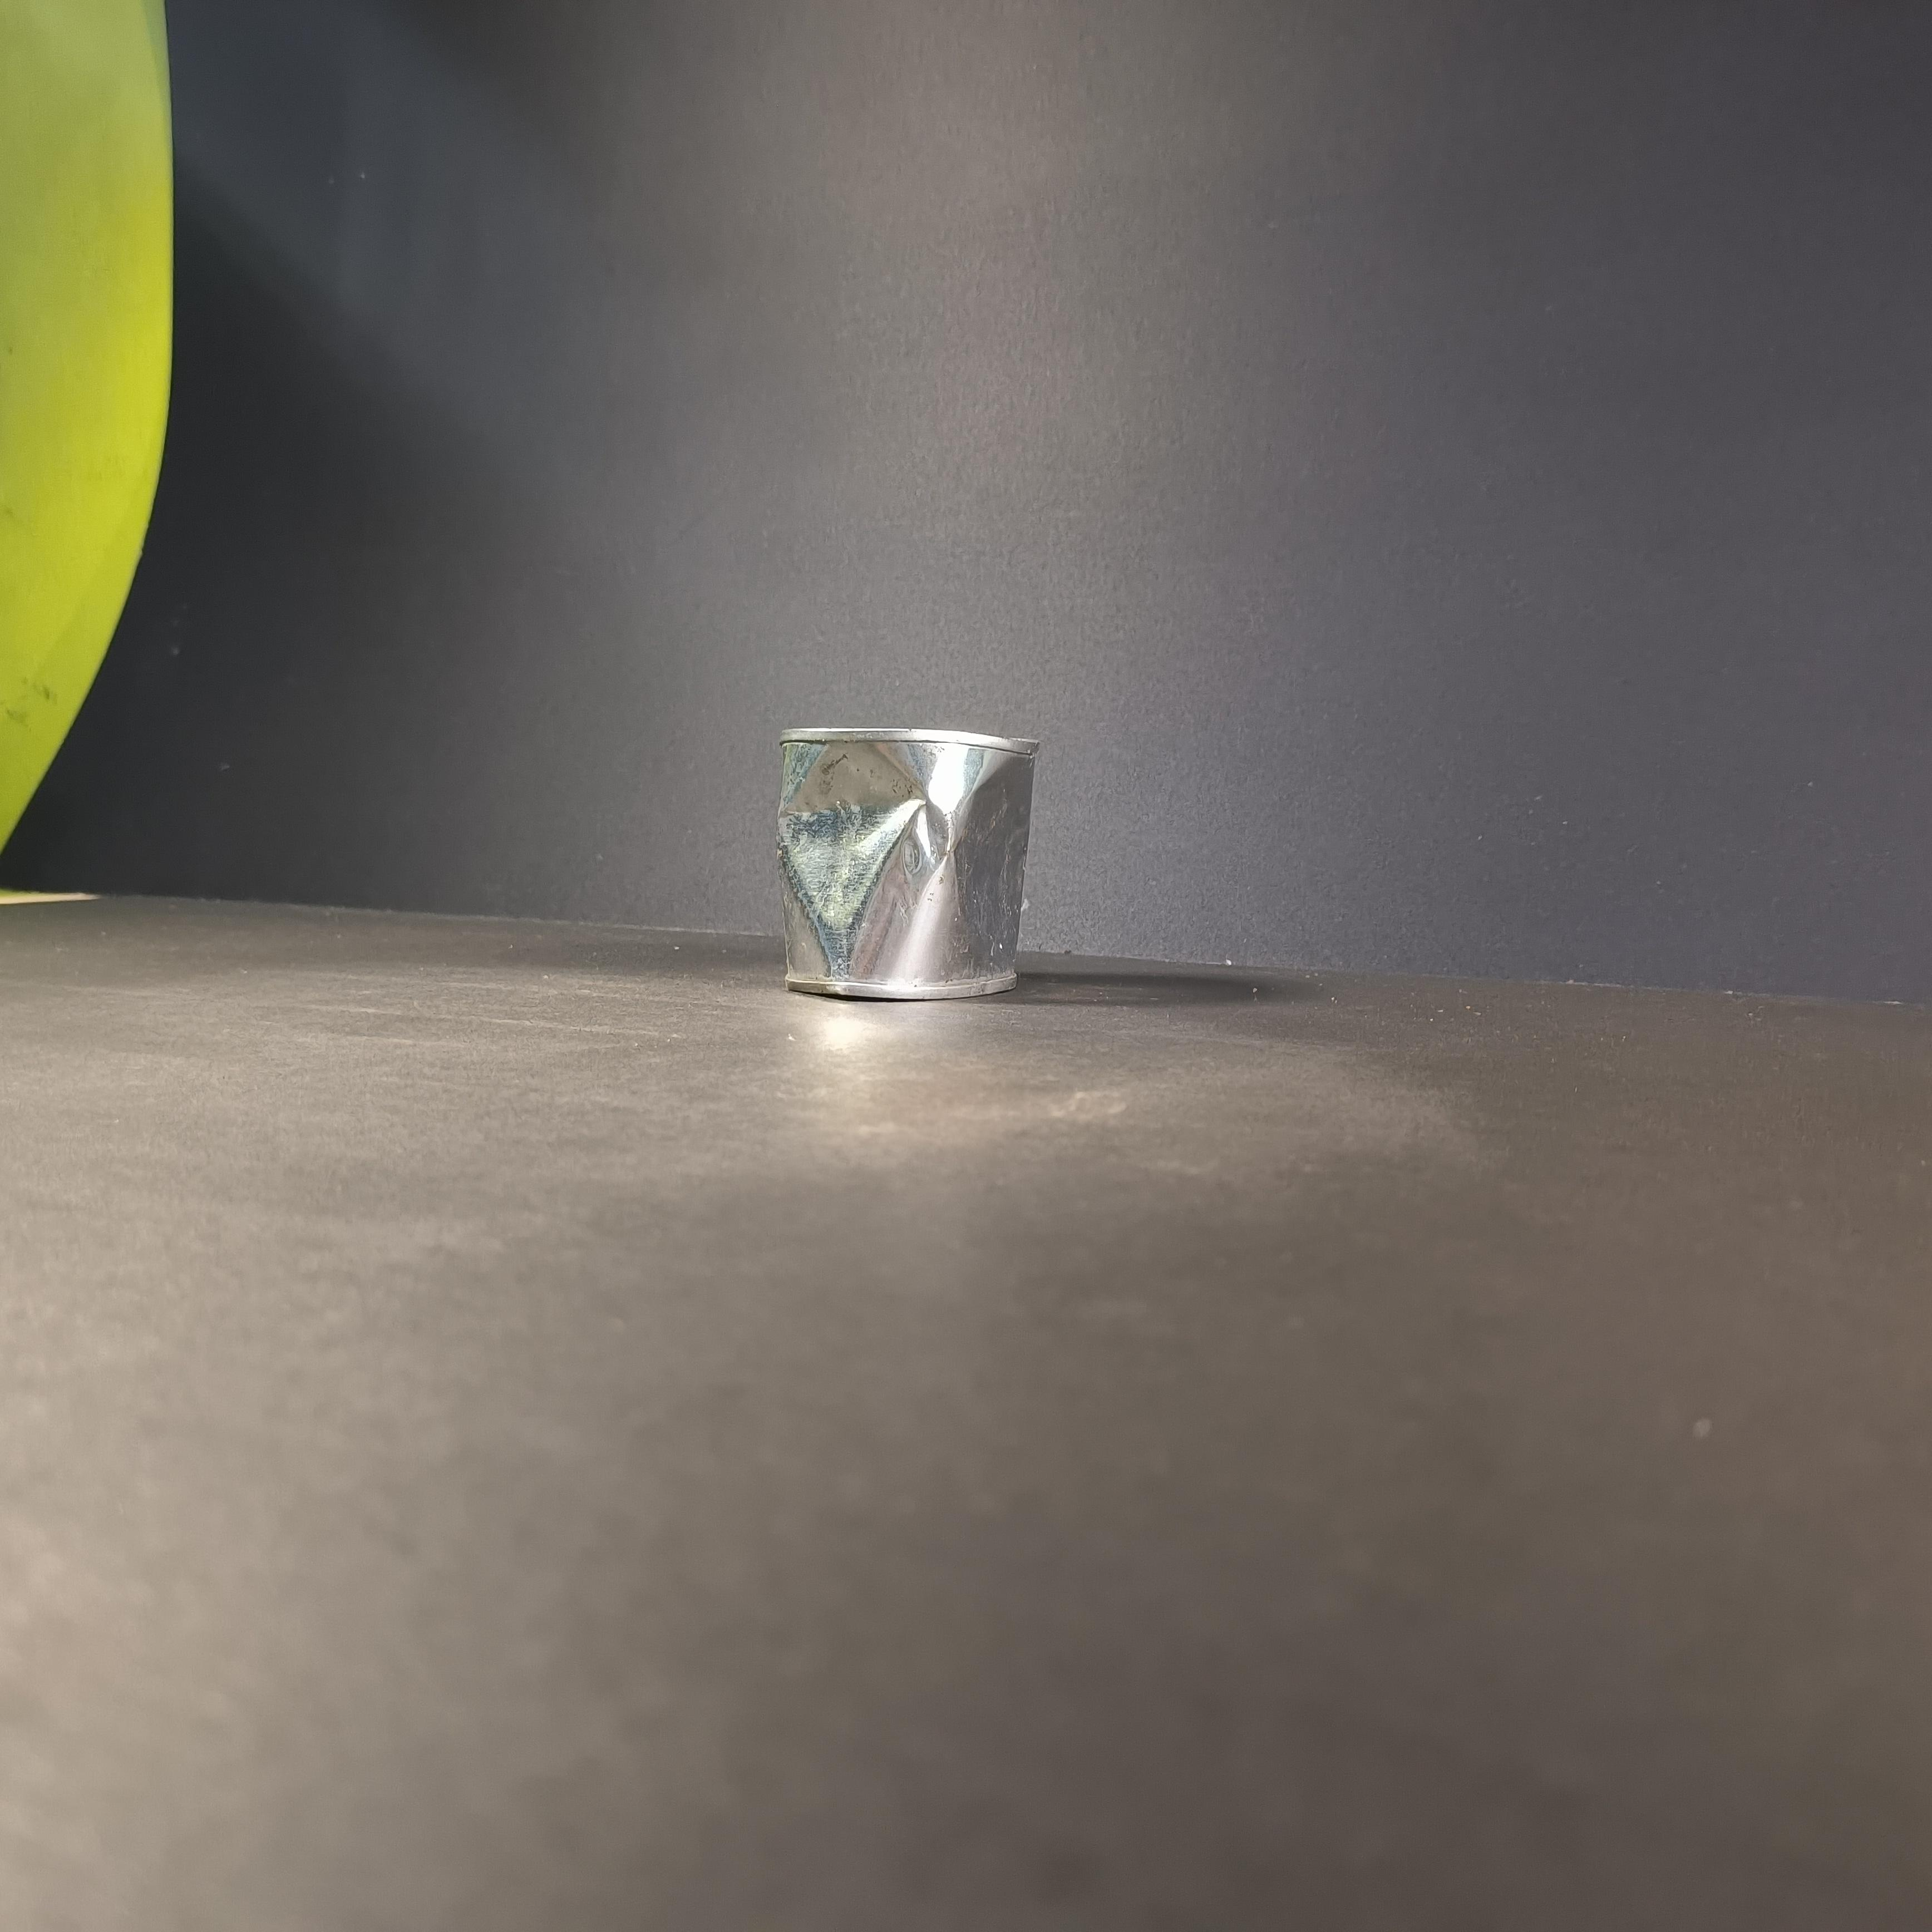Major Defect: (777, 727, 1041, 998)
